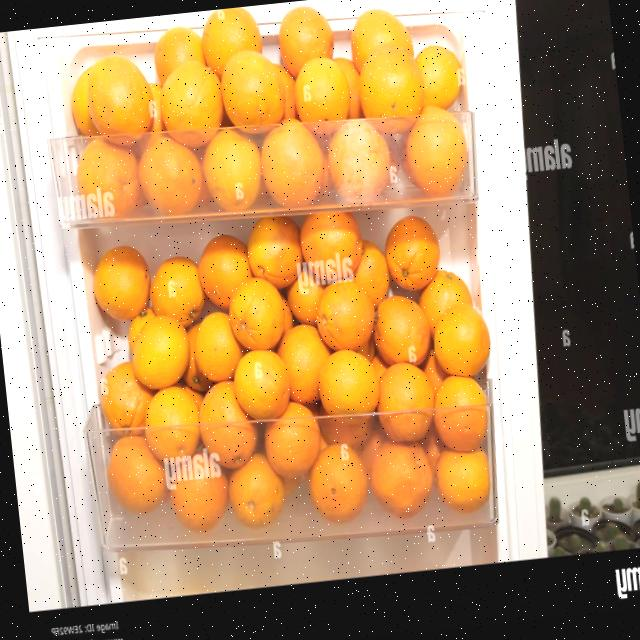orange: (395, 100, 470, 204), (214, 42, 291, 138), (81, 50, 156, 148), (256, 111, 328, 212), (357, 46, 428, 136), (294, 197, 365, 283), (126, 308, 196, 393), (306, 437, 372, 525), (378, 205, 442, 295), (222, 446, 288, 532), (313, 343, 384, 422), (427, 300, 495, 382), (88, 238, 155, 321), (225, 272, 288, 356), (311, 278, 379, 354)
